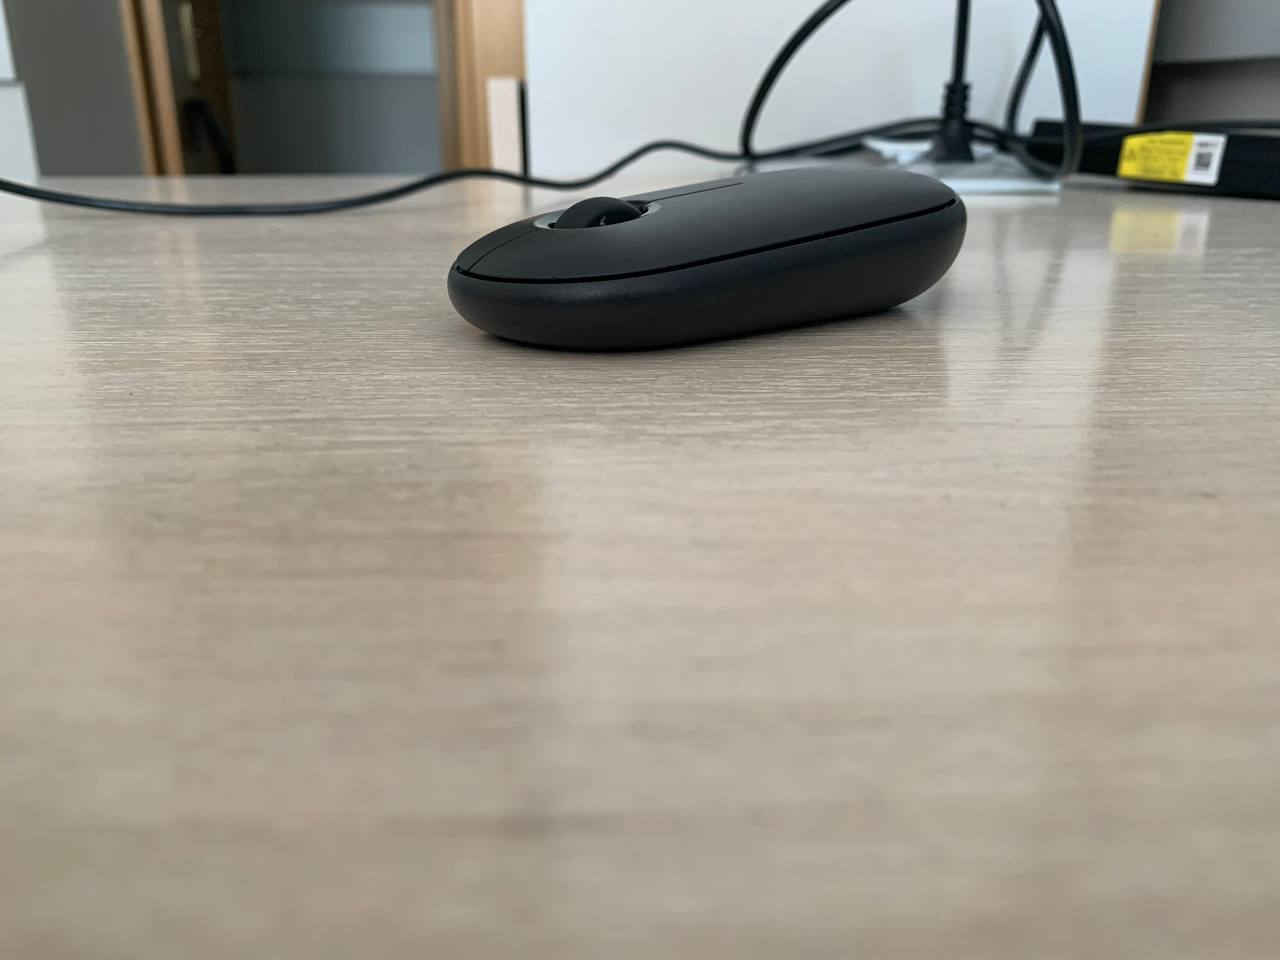mouse: (449, 166, 964, 350)
